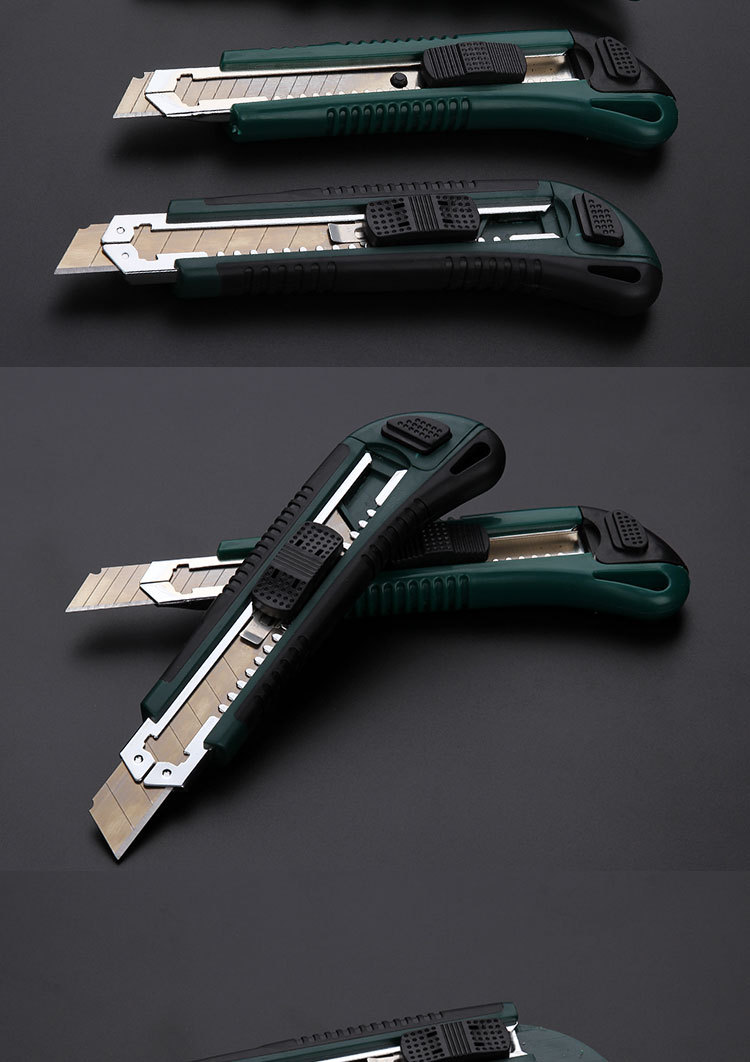cutter: (86, 414, 507, 862), (51, 175, 667, 312), (59, 504, 695, 619), (112, 30, 679, 142), (160, 1002, 620, 1062)
